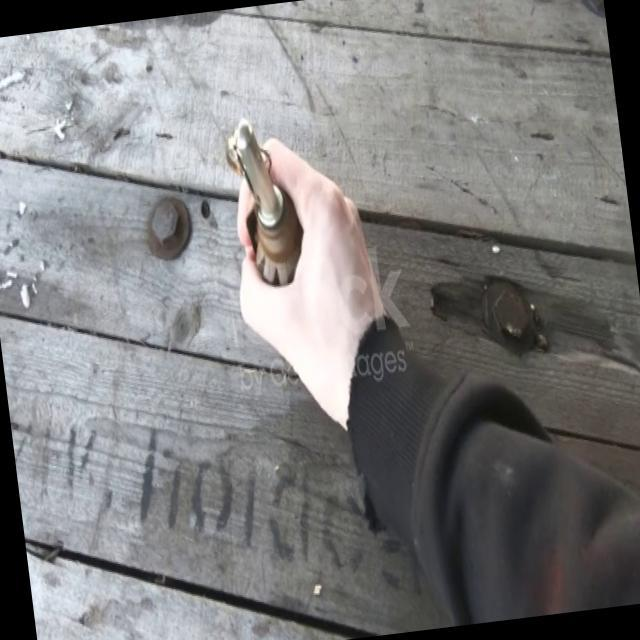grenade: (225, 109, 306, 293)
